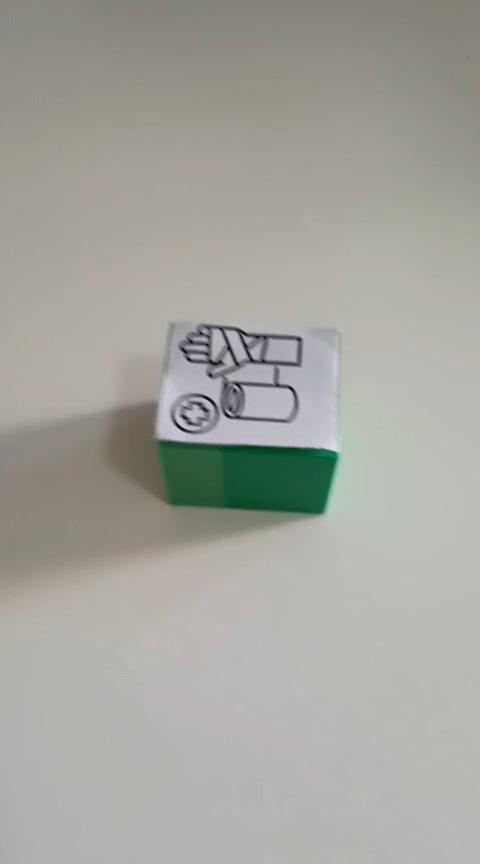Bandages: (152, 319, 342, 515)
